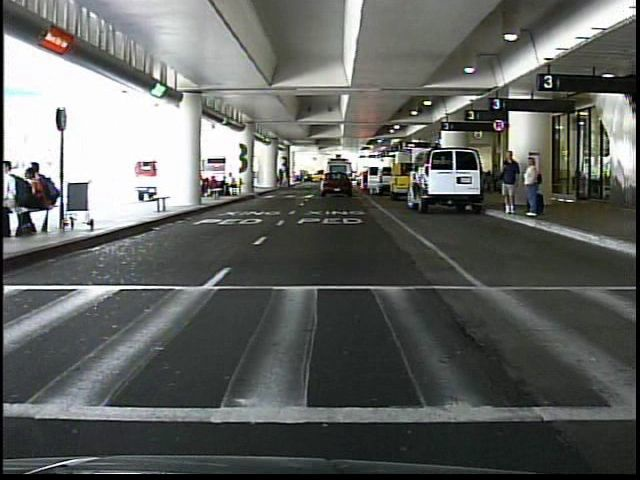person: (497, 146, 521, 217), (521, 154, 543, 224), (332, 171, 342, 193)
